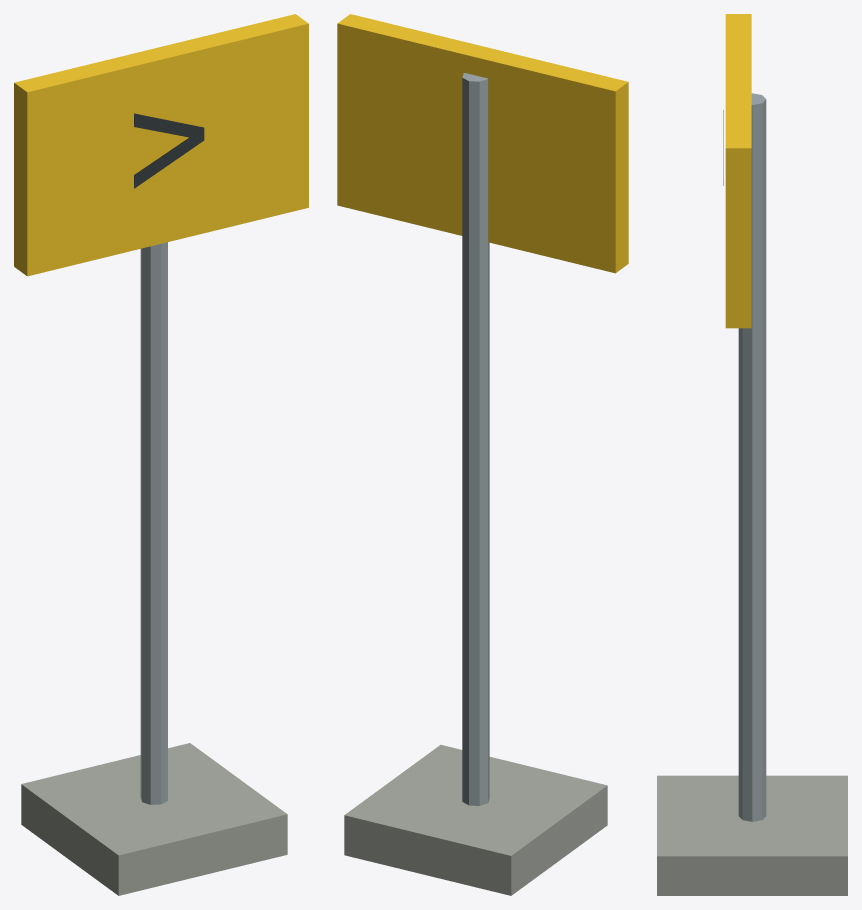
The model's file is TR3_Sign_ArrowRight.glb.
3 views of the same model, side by side, from view 1: azimuth 30°, elevation 25°; view 2: azimuth 150°, elevation 25°; view 3: azimuth 270°, elevation 25° (orthographic). The views are drawn at different scales.
Parts seen in each view (by area): view 1: TR3_Sign_ArrowRight; view 2: TR3_Sign_ArrowRight; view 3: TR3_Sign_ArrowRight.
Part boxes in pixels (x1=…): TR3_Sign_ArrowRight: x1=14, y1=14, x2=308, y2=895; TR3_Sign_ArrowRight: x1=337, y1=14, x2=628, y2=895; TR3_Sign_ArrowRight: x1=657, y1=14, x2=847, y2=895.
Bounding box in the file's own units: 0.8 × 2.15 × 0.48.
